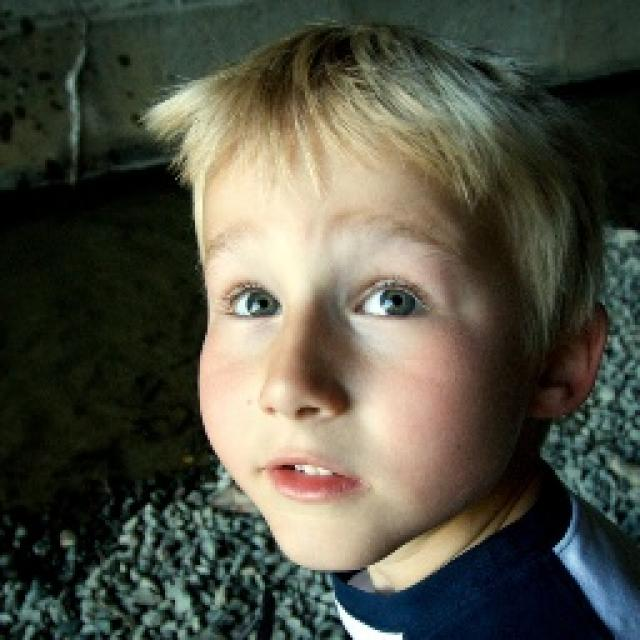earlobe: (526, 396, 566, 421)
eye: (352, 289, 430, 323), (222, 288, 282, 320)
nose: (260, 402, 342, 449)
wholeear: (526, 294, 608, 421)
